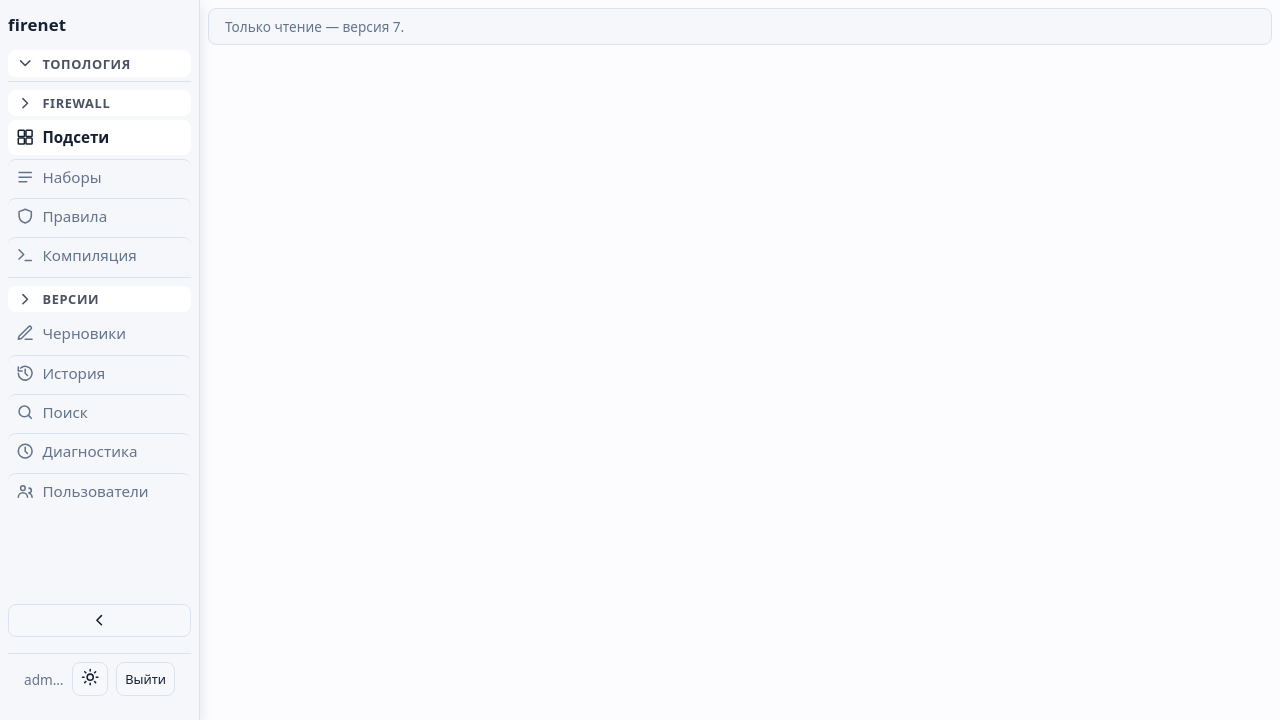
Layout › keeps closed navigation groups represented by an operable control
Expected: the link "Схема" is not shown
Click the button with aria-label "Свернуть/развернуть раздел «Топология»" at (100, 64), box [8,50,191,77]
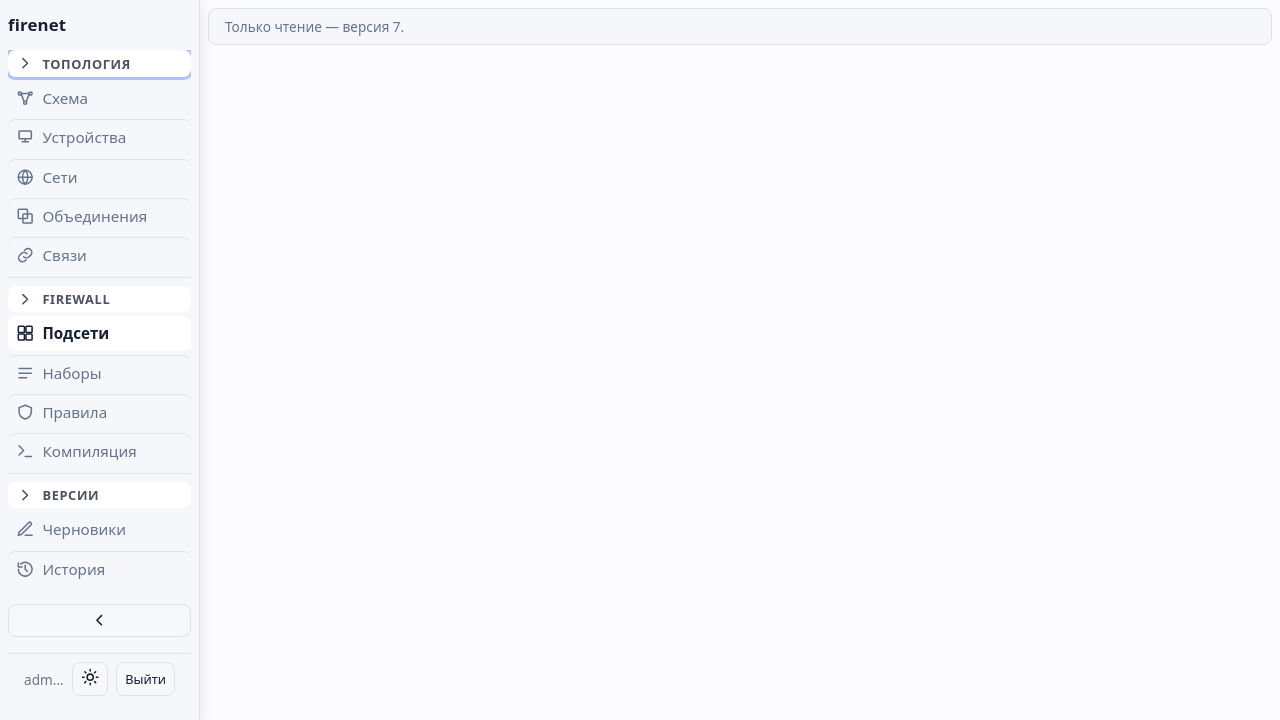
Result: the link "Схема" is shown at [16,88,88,108]
